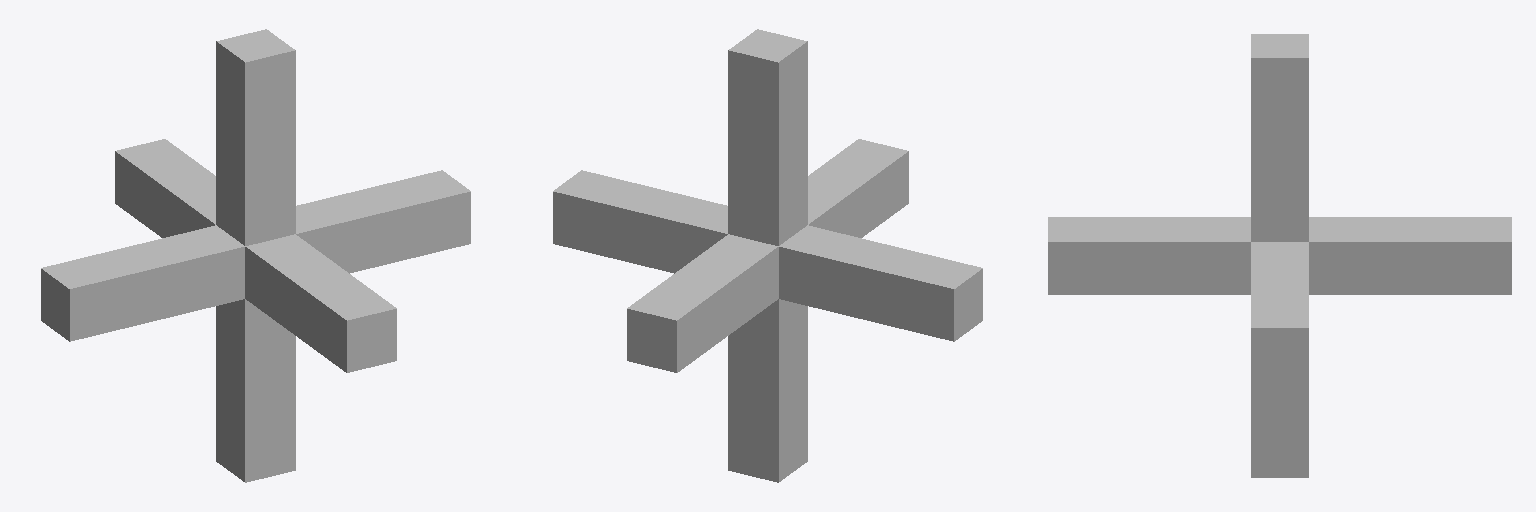
File: Wire.obj
3 views of the same model, side by side, from view 1: azimuth 30°, elevation 25°; view 2: azimuth 150°, elevation 25°; view 3: azimuth 270°, elevation 25° (orthographic).
Parts seen in each view (by area): view 1: WireUp, WireLeft, WireDown, WireNorth, WireRight, WireSouth; view 2: WireUp, WireLeft, WireDown, WireSouth, WireRight, WireNorth; view 3: WireSouth, WireNorth, WireUp, WireRight, WireDown.
Boxes of the visible parts, x1=… form: WireUp: x1=216, y1=29, x2=295, y2=245; WireLeft: x1=41, y1=225, x2=244, y2=341; WireDown: x1=216, y1=299, x2=295, y2=482; WireNorth: x1=245, y1=234, x2=396, y2=372; WireRight: x1=296, y1=170, x2=470, y2=273; WireSouth: x1=115, y1=139, x2=215, y2=237; WireUp: x1=728, y1=29, x2=807, y2=245; WireLeft: x1=779, y1=225, x2=982, y2=341; WireDown: x1=728, y1=299, x2=807, y2=482; WireSouth: x1=627, y1=234, x2=778, y2=372; WireRight: x1=553, y1=170, x2=727, y2=273; WireNorth: x1=808, y1=139, x2=908, y2=237; WireSouth: x1=1309, y1=217, x2=1511, y2=294; WireNorth: x1=1048, y1=217, x2=1250, y2=294; WireUp: x1=1251, y1=34, x2=1308, y2=241; WireRight: x1=1251, y1=242, x2=1308, y2=379; WireDown: x1=1251, y1=380, x2=1308, y2=477.
Size of the model in its own units: 2 by 2 by 2.